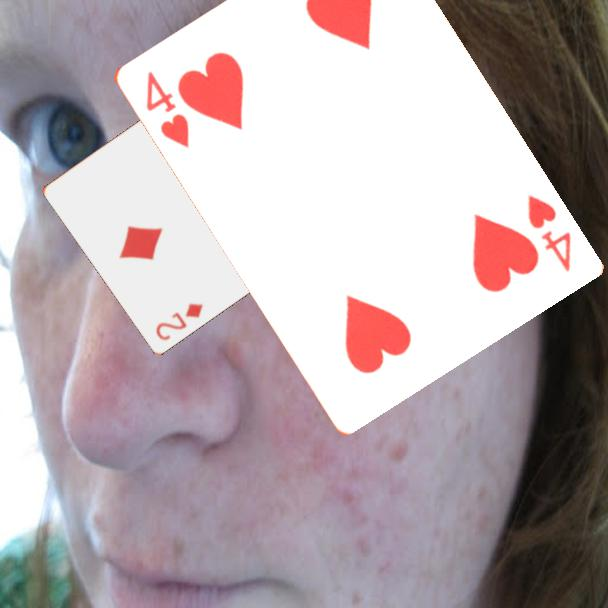d02: (152, 299, 206, 343)
h04: (523, 190, 574, 275), (141, 67, 192, 151)
